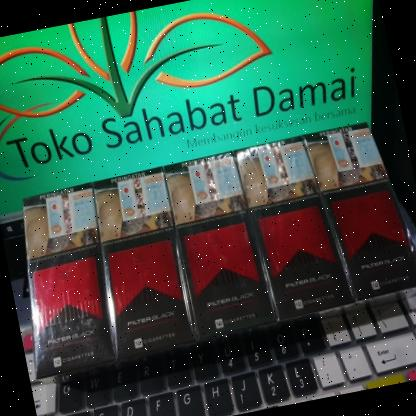bungkus rokok: (0, 171, 127, 387), (158, 139, 282, 355), (230, 124, 358, 327), (82, 154, 202, 370), (299, 106, 416, 313)
